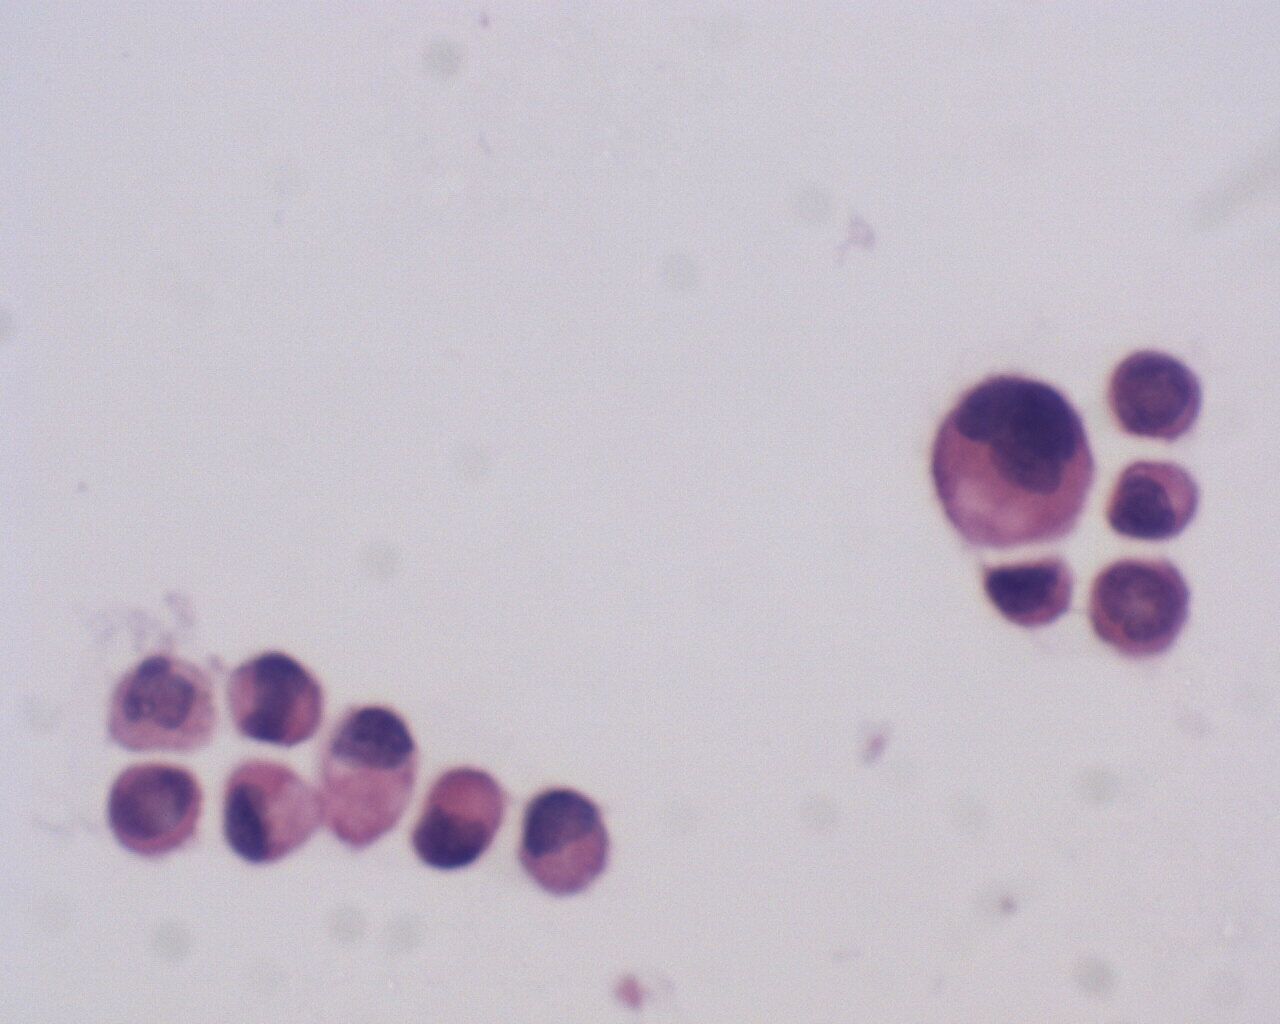ab: (1084, 549, 1193, 660), (519, 779, 620, 899), (220, 648, 325, 754), (410, 758, 503, 876), (103, 758, 208, 860), (1106, 345, 1205, 448), (1106, 453, 1202, 546), (977, 552, 1079, 633)
meso: (933, 363, 1096, 553)
